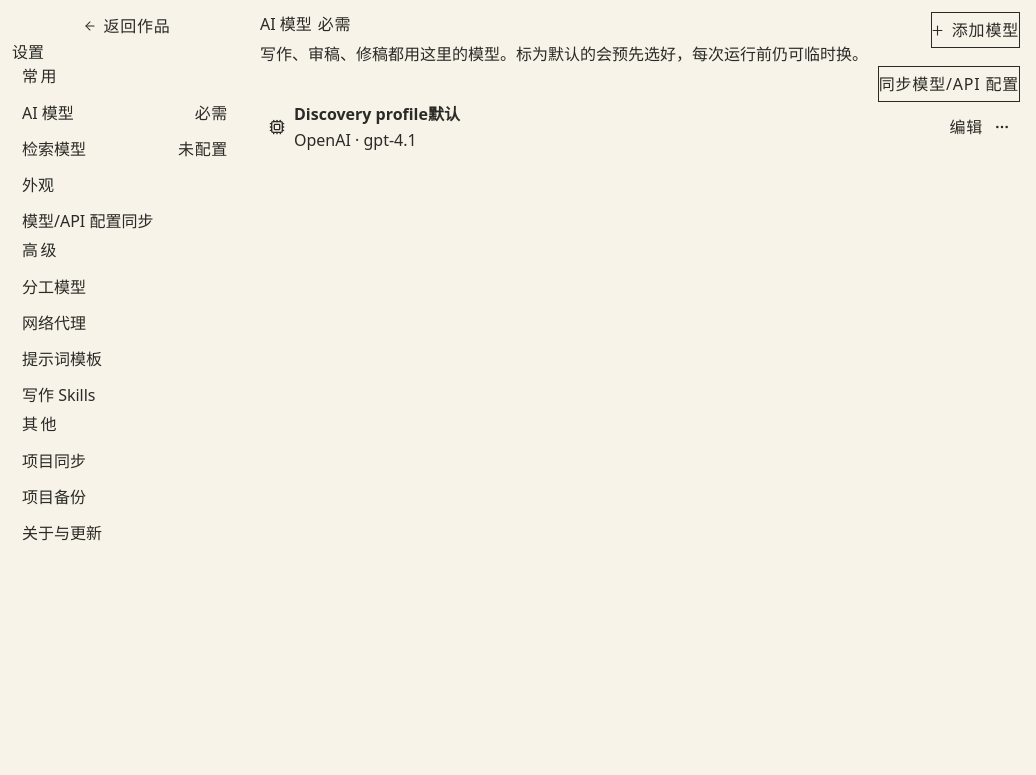
model discovery settings flow › shows existing exact official catalog capacities without a fetch or an automatic save
Step 1. Click the button with aria-label "编辑「" → (966, 127), box [948,113,984,141]
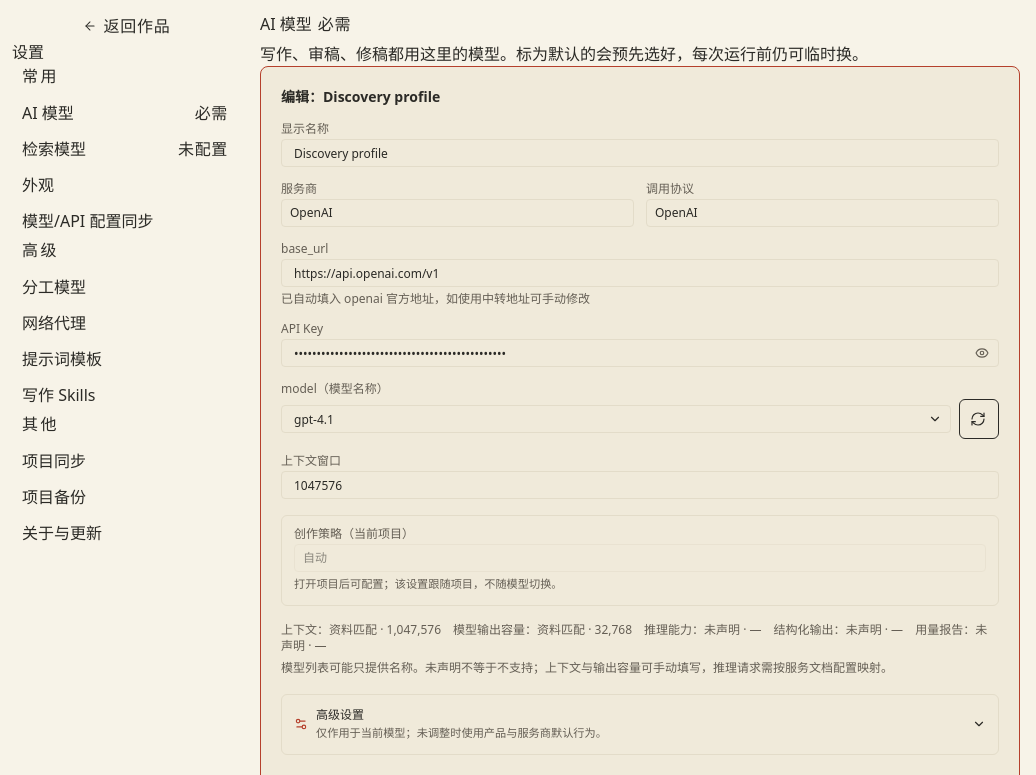
Expected: the text "上下文：资料匹配 · 1,047,576" is shown, [281,621,441,638]
Expected: the text "模型输出容量：资料匹配 · 32,768" is shown, [453,621,632,638]
Expected: the text "推理能力：未声明 · —" is shown, [644,621,762,638]
